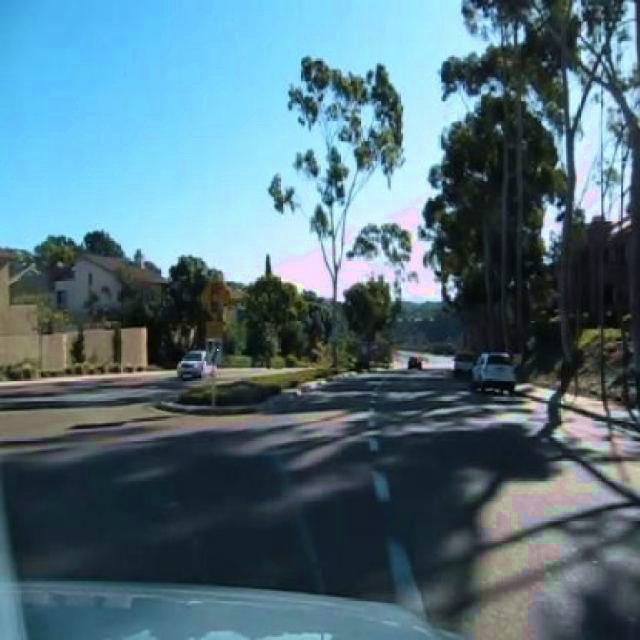keepRight: (205, 336, 222, 366)
signalAhead: (200, 274, 232, 321)
